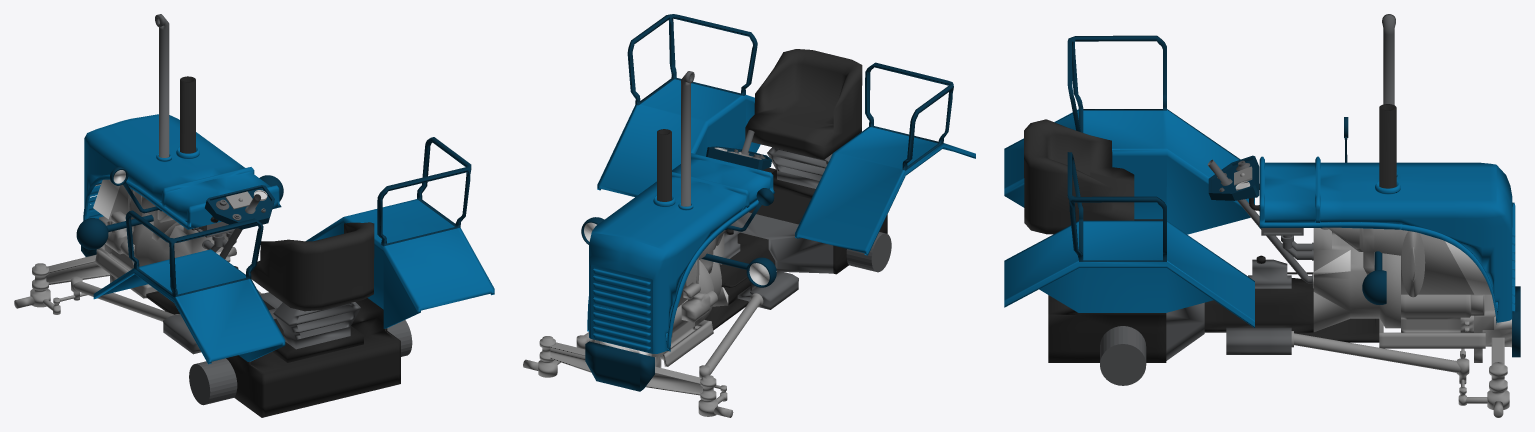
File: tractor9.fbx
The picture shows the model from 3 angles, left to right: view 1: azimuth 30°, elevation 25°; view 2: azimuth 150°, elevation 25°; view 3: azimuth 270°, elevation 25°; orthographic projection. The views are drawn at different scales.
Visible parts, largest first — view 1: Model; view 2: Model; view 3: Model.
Part boxes in pixels (box(x1,y1,x2,y2)): Model: box(14, 14, 494, 417); Model: box(523, 14, 975, 417); Model: box(1004, 14, 1520, 417).
Bounding box in the file's own units: 876 × 845 × 1174.
